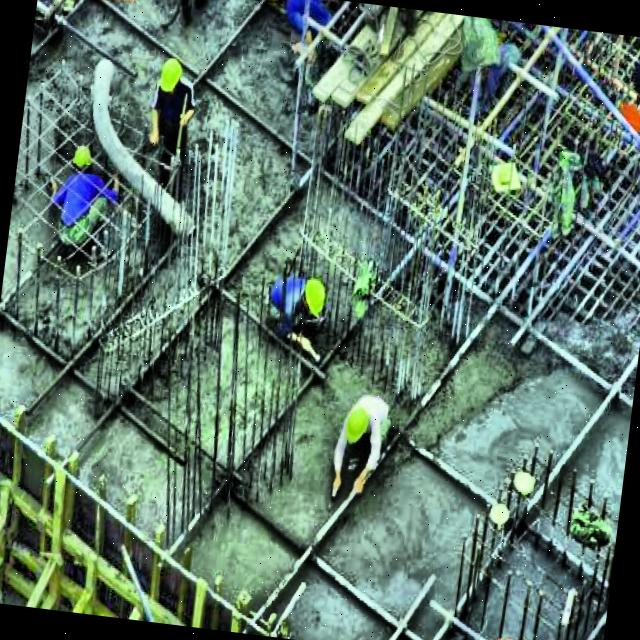helmet: (298, 272, 330, 318), (154, 56, 186, 100), (339, 406, 368, 445), (67, 142, 94, 176)
